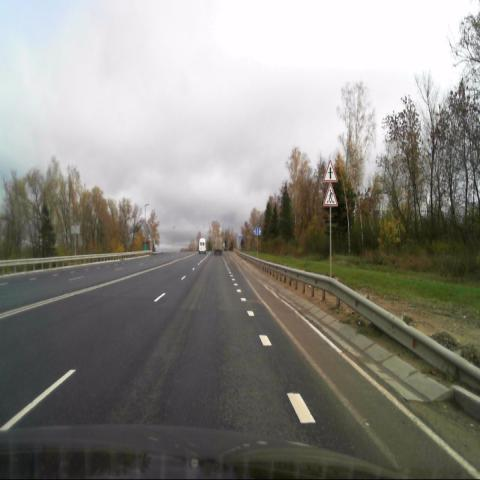1_22: (322, 183, 338, 207)
2_3: (323, 160, 336, 182)
